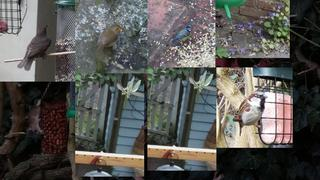blue tit: (171, 24, 191, 43)
mouse: (26, 106, 42, 135)
robin: (95, 24, 123, 55)
sparrow: (232, 91, 269, 136)
starling: (17, 24, 51, 71)
